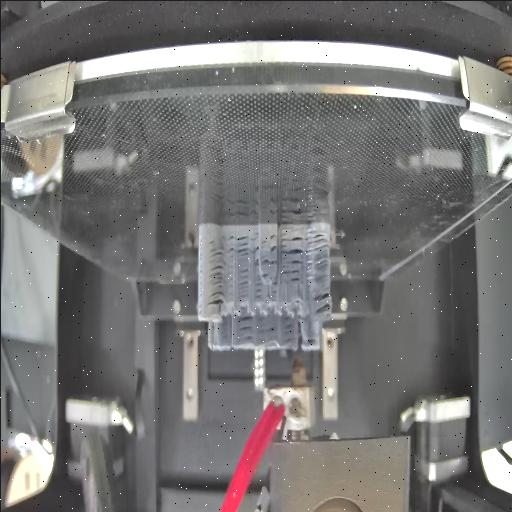cracks: (305, 231, 327, 279), (208, 245, 222, 305), (279, 229, 303, 262), (224, 233, 250, 256), (234, 312, 253, 342), (310, 288, 330, 315), (236, 266, 248, 302), (256, 315, 274, 338), (280, 316, 292, 342), (280, 269, 300, 283), (254, 256, 276, 268), (252, 279, 262, 299), (268, 232, 276, 253), (268, 282, 276, 302), (252, 232, 260, 252), (302, 336, 316, 342), (260, 270, 268, 278)
